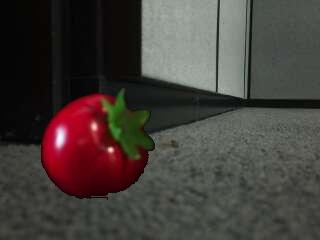Tomato: (40, 89, 155, 200)
